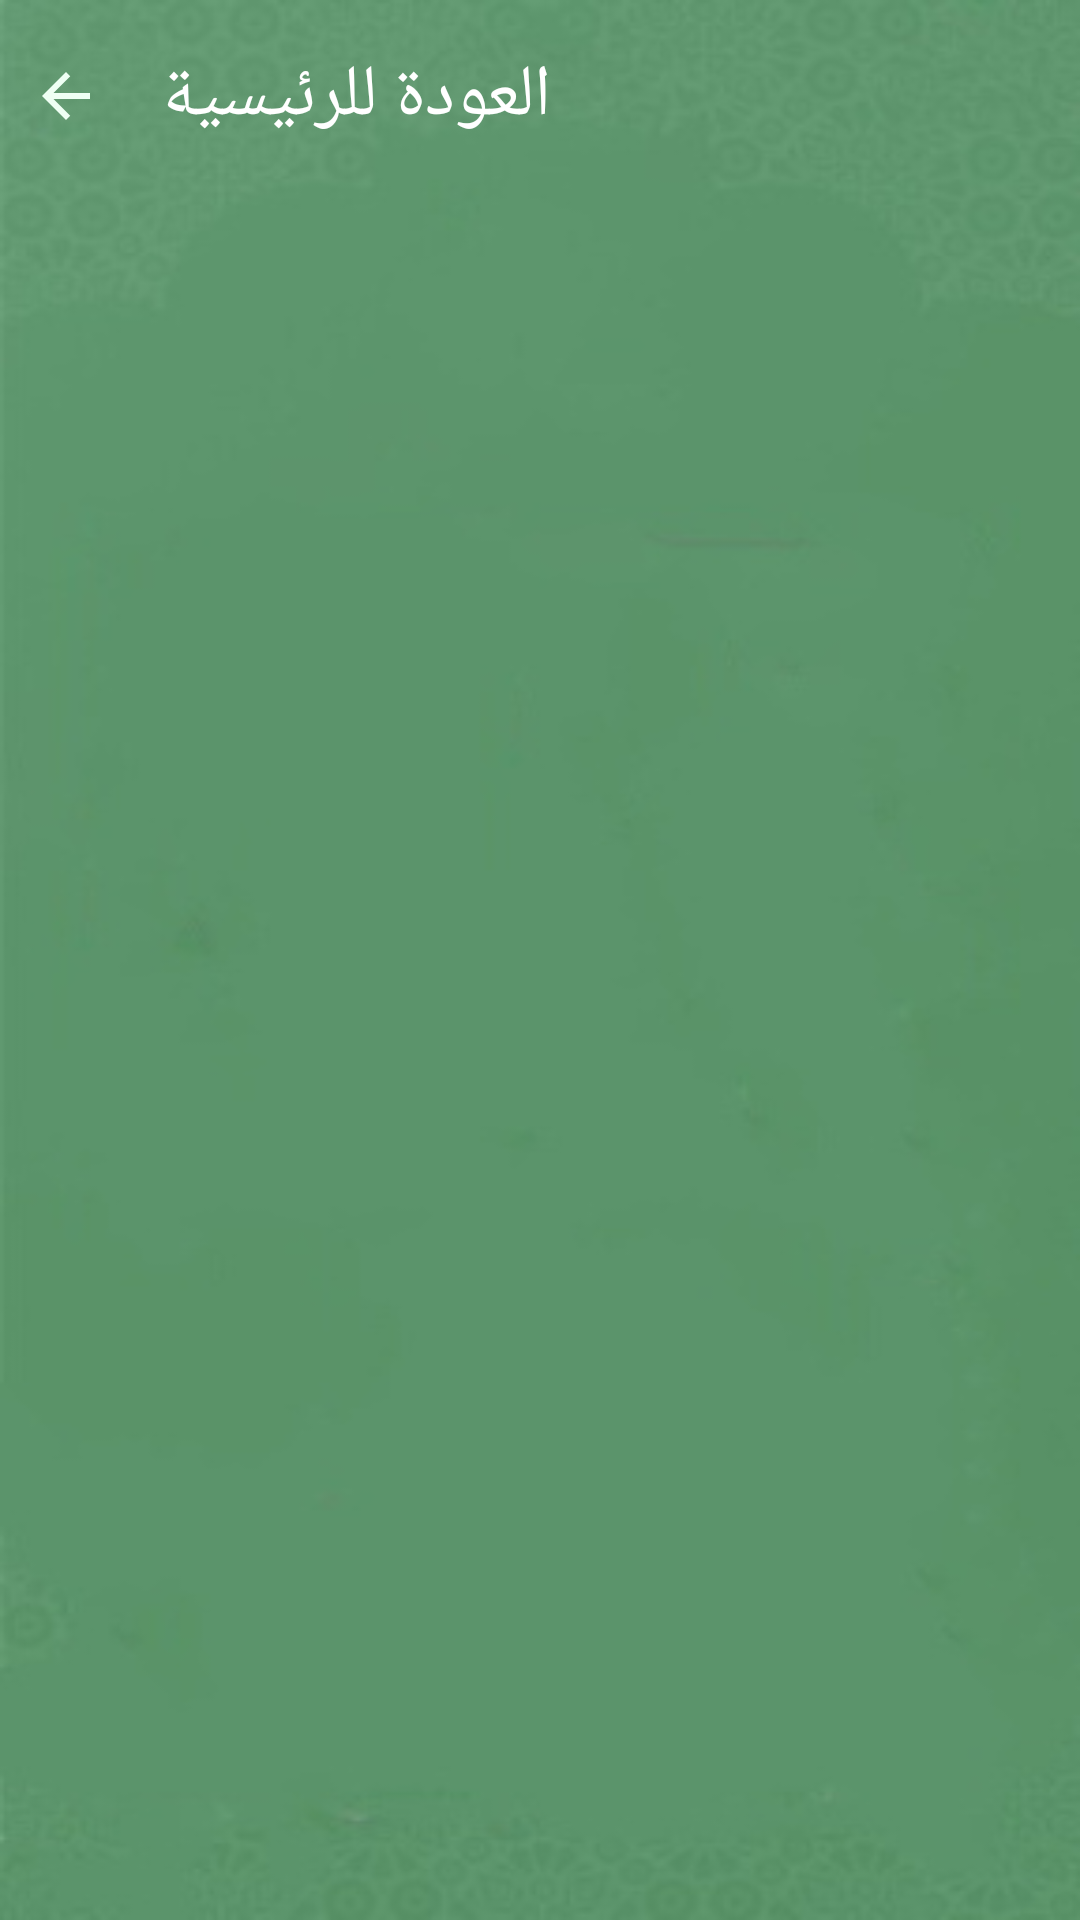

Screen size 1080x1920. Icon name, then its center in pixels as (x,y):
arrow back: (66,96)
